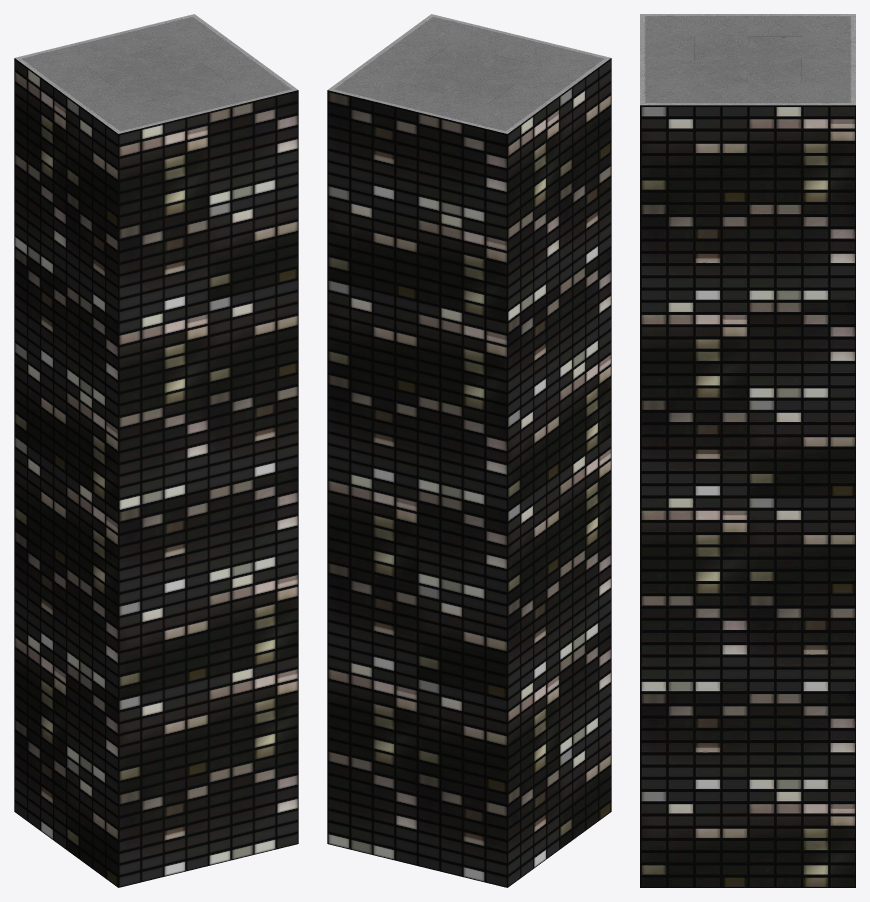
Rendered from Building_Square.FBX.
3 views of the same model, side by side, from view 1: azimuth 30°, elevation 25°; view 2: azimuth 150°, elevation 25°; view 3: azimuth 270°, elevation 25° (orthographic). The views are drawn at different scales.
Visible parts, largest first — view 1: Building_square; view 2: Building_square; view 3: Building_square.
Boxes of the visible parts, x1,y1,x2,y2 form: Building_square: (14, 14, 298, 887); Building_square: (327, 14, 611, 887); Building_square: (640, 14, 855, 887).
Bounding box in the file's own units: 13.79 × 55.17 × 13.79.
